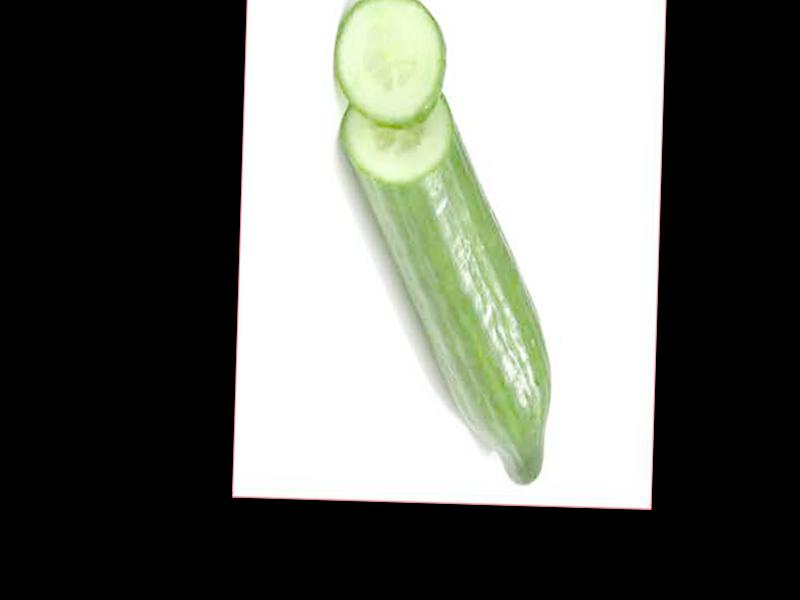Cucumber: (329, 83, 558, 486)
